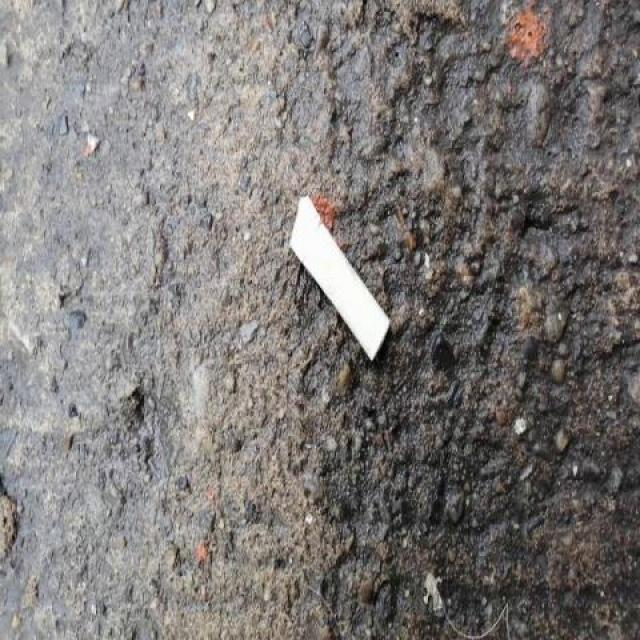non-organic waste: (284, 188, 395, 368)
